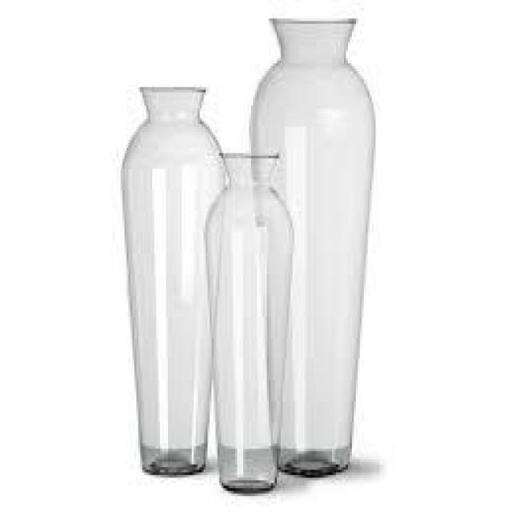glass: (252, 19, 374, 473), (110, 74, 236, 482), (206, 152, 292, 490)
